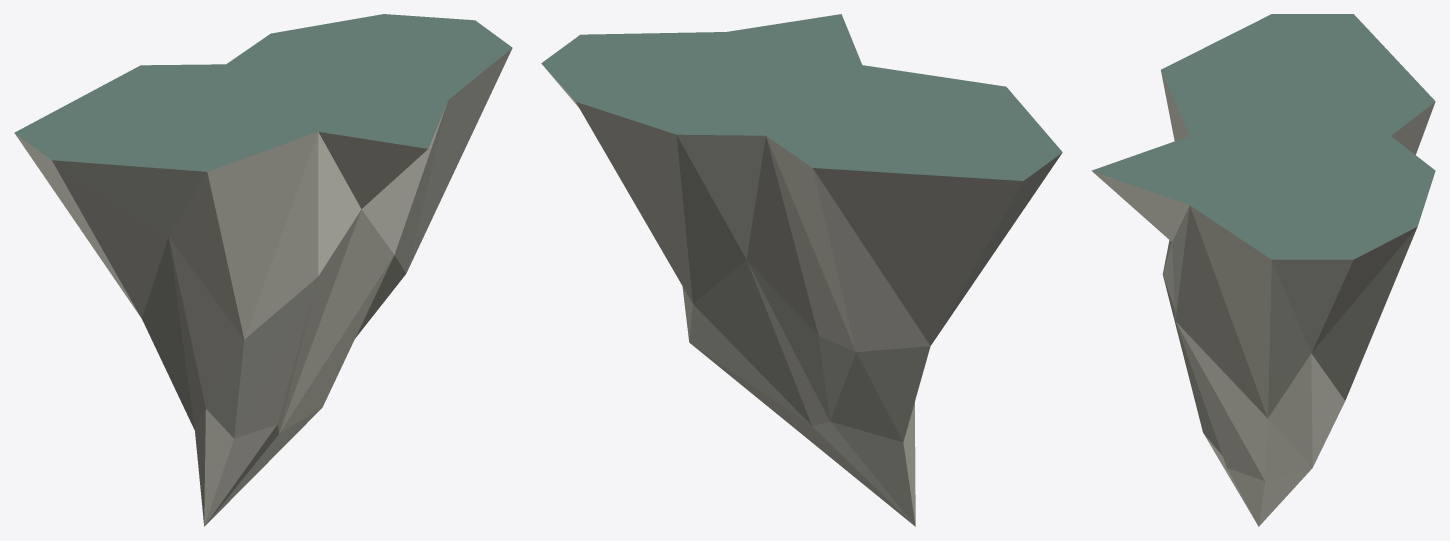
File: island04.fbx
3 renders of one model, left to right at view 1: azimuth 30°, elevation 25°; view 2: azimuth 150°, elevation 25°; view 3: azimuth 270°, elevation 25°, orthographic. The views are drawn at different scales.
Visible parts, largest first — view 1: pPlane2; view 2: pPlane2; view 3: pPlane2.
Boxes of the visible parts, <box> form: pPlane2: <box>14,14,512,526</box>; pPlane2: <box>541,14,1062,526</box>; pPlane2: <box>1091,14,1435,526</box>.
Bounding box in the file's own units: 0.0709 × 0.0585 × 0.042.
